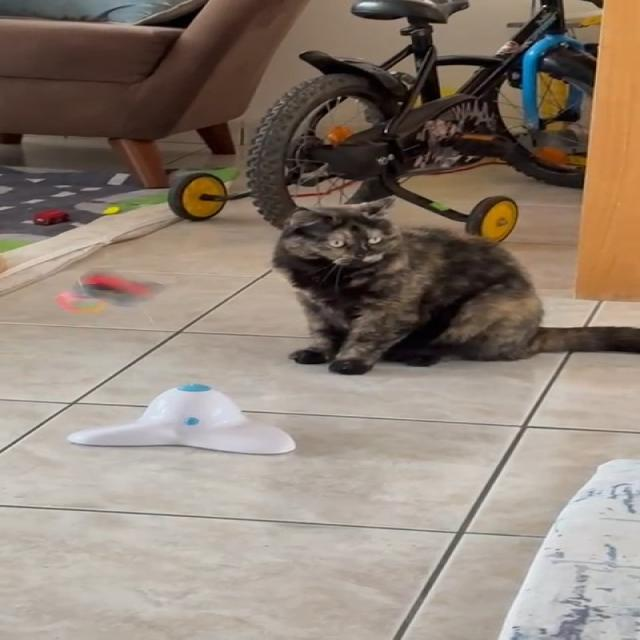authorized: (269, 196, 639, 375)
